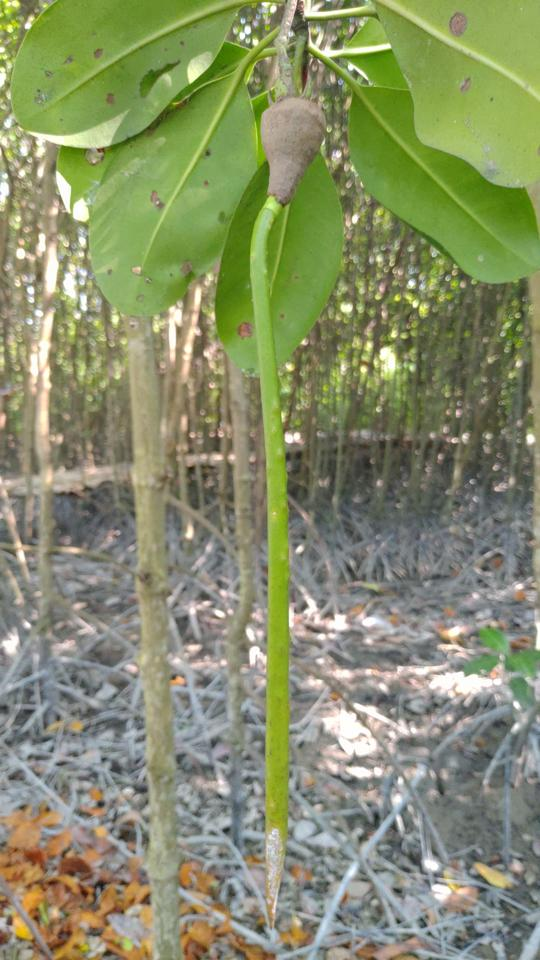setengah matang: (237, 77, 335, 938)
